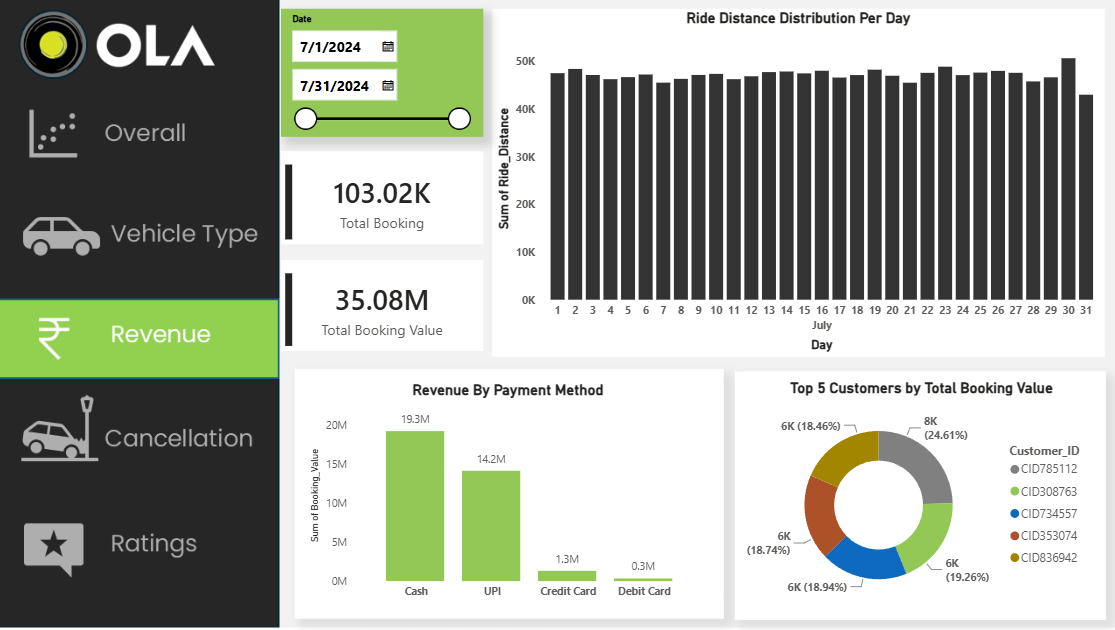

This screenshot's page, from the dashboard's own definition file:
{"tool":"powerbi","page":{"name":"Revenue","canvas":[1280,720],"ordinal":2},"visuals":[{"type":"actionButton","box":[0,220,325.7,94.3],"z":0},{"type":"actionButton","box":[0,578.6,325.7,90],"z":1000},{"type":"actionButton","box":[0,457.1,325.7,90],"z":2000},{"type":"actionButton","box":[0,111.4,325.7,90],"z":3000},{"type":"shape","box":[341.4,421.9,490,285.7],"z":4000},{"type":"columnChart","title":"Revenue By Payment Method","fields":{"Category":["Bookings.Payment_Method"],"Y":["Sum(Bookings.Booking_Value)"]},"box":[354.3,436.1,461.4,258.6],"z":5000},{"type":"shape","box":[844.3,424.3,424.3,284.3],"z":6000},{"type":"donutChart","title":"Top 5 Customers by Total Booking Value","fields":{"Category":["Bookings.Customer_ID"],"Y":["Sum(Bookings.Booking_Value)"]},"box":[854.3,432.9,407.1,270],"z":7000},{"type":"columnChart","title":"Ride Distance Distribution Per Day","fields":{"Y":["Sum(Bookings.Ride_Distance)"],"Category":["Bookings.Date.Variation.Date Hierarchy.Month","Bookings.Date.Variation.Date Hierarchy.Day"]},"box":[567.5,10,700,397.5],"z":8000},{"type":"slicer","fields":{"Values":["Bookings.Date"]},"box":[326.2,10,231.2,146.2],"z":9000},{"type":"cardVisual","fields":{"Data":["Sum(Bookings.Booking_Value)"]},"box":[326.2,297.5,231.2,103.8],"z":10000},{"type":"cardVisual","fields":{"Data":["Bookings.Count of booking Status","Bookings.Count of booking Status"]},"box":[326.2,172.5,231.2,106.2],"z":11000}]}

Visuals, with their boxes in screenshot pixels (x1, y1, x2, y2), scaled from the page's 1280x720 canvas onto the 1115x630 screenshot:
actionButton: x1=0 y1=192 x2=284 y2=275
actionButton: x1=0 y1=506 x2=284 y2=585
actionButton: x1=0 y1=400 x2=284 y2=479
actionButton: x1=0 y1=97 x2=284 y2=176
shape: x1=297 y1=369 x2=724 y2=619
"Revenue By Payment Method" columnChart: x1=309 y1=382 x2=711 y2=608
shape: x1=735 y1=371 x2=1105 y2=620
"Top 5 Customers by Total Booking Value" donutChart: x1=744 y1=379 x2=1099 y2=615
"Ride Distance Distribution Per Day" columnChart: x1=494 y1=9 x2=1104 y2=357
slicer - Bookings.Date: x1=284 y1=9 x2=486 y2=137
cardVisual - Sum(Bookings.Booking_Value): x1=284 y1=260 x2=486 y2=351
cardVisual - Bookings.Count of booking Status x Bookings.Count of booking Status: x1=284 y1=151 x2=486 y2=244
